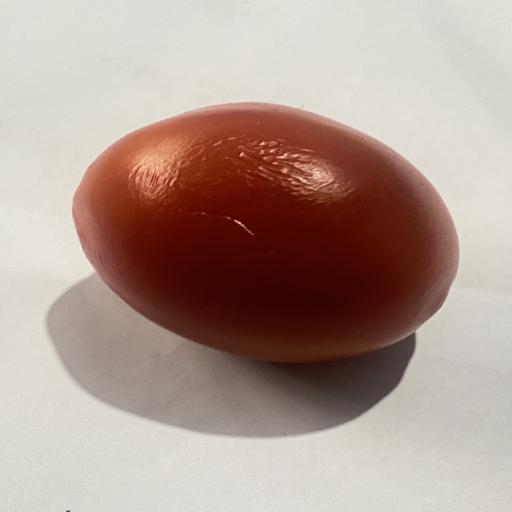overipe: (73, 103, 459, 362)
